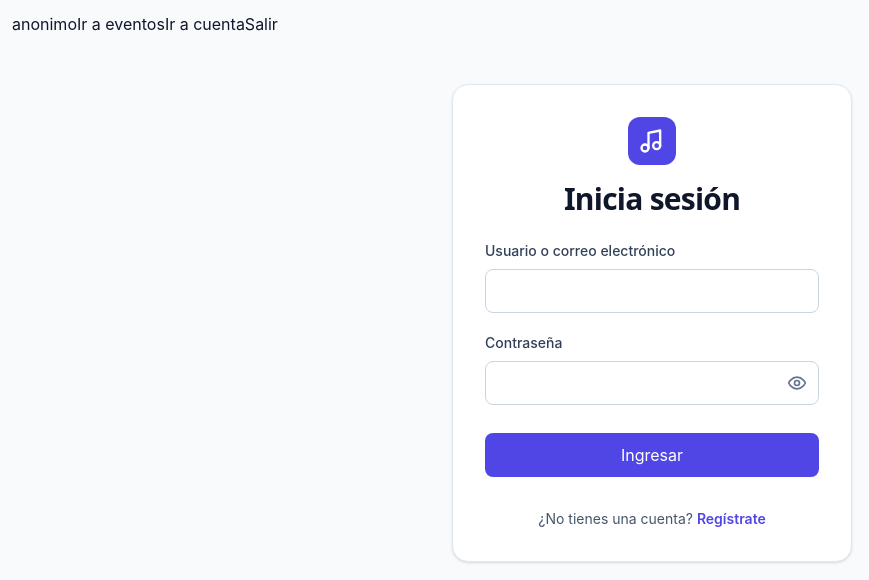
Session continuity during navigation › finishes a pending login after navigating to a public page
The width and height of the screenshot is (869, 580).
Expected: the text named "Estado de sesión" reads "anonimo", [12,14,77,34]
Step 1. Type "ana" into the field labelled "Usuario o correo electrónico" → (652, 291), box [485,269,819,313]
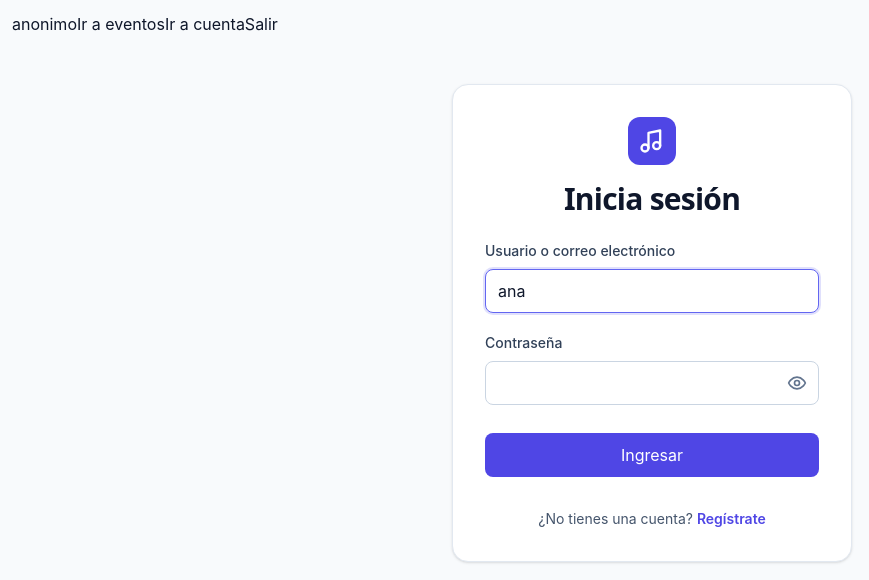
Step 2. Type "test-password" into the password field labelled "Contraseña" → (652, 383), box [485,361,819,405]
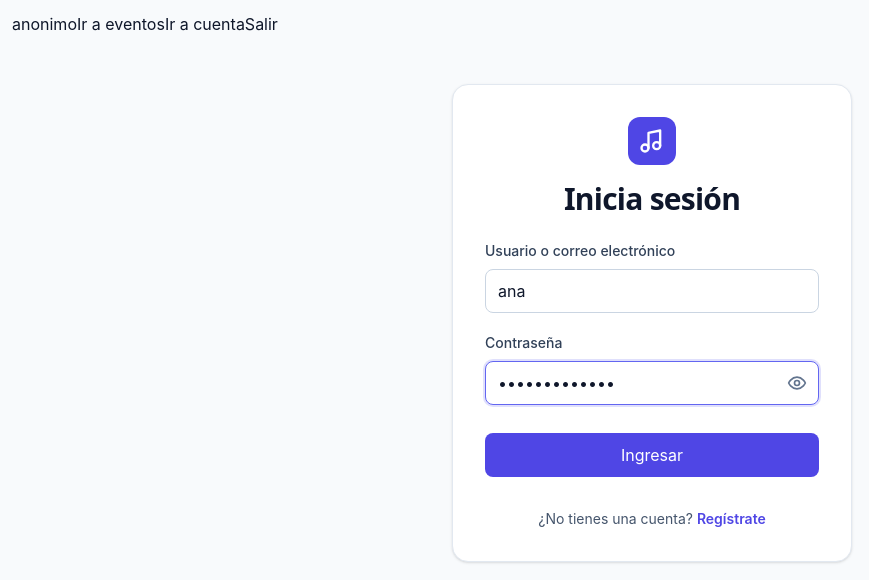
Step 3. Click the button "Ingresar" → (652, 455), box [485,433,819,477]
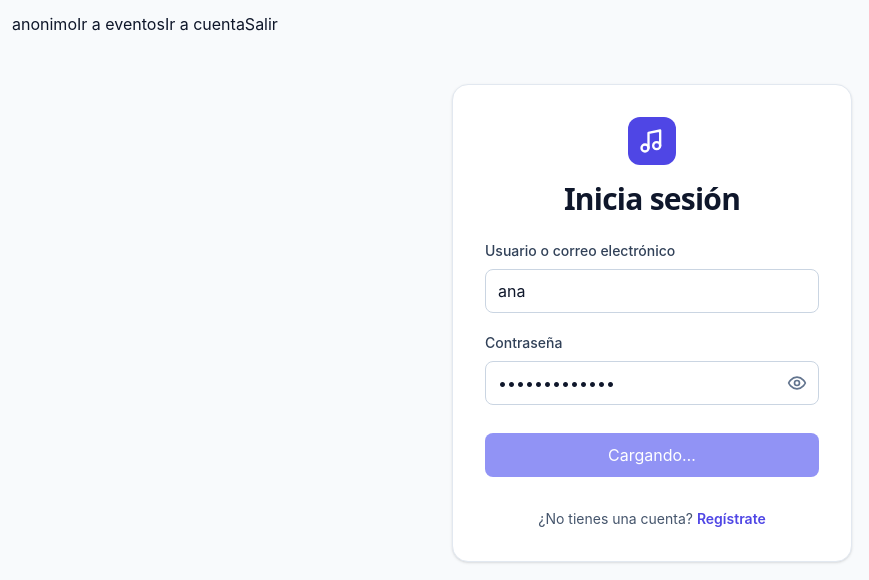
Step 4. Click the link "Ir a eventos" → (121, 24), box [77,14,165,34]
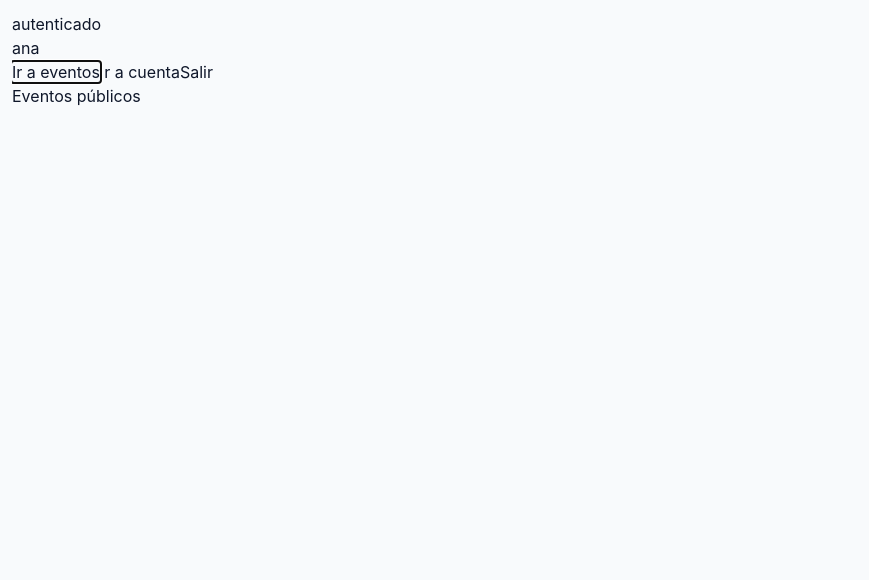
Expected: the text named "Estado de sesión" reads "autenticado", [12,14,101,34]
Expected: the text "ana" is shown, [12,38,39,58]
